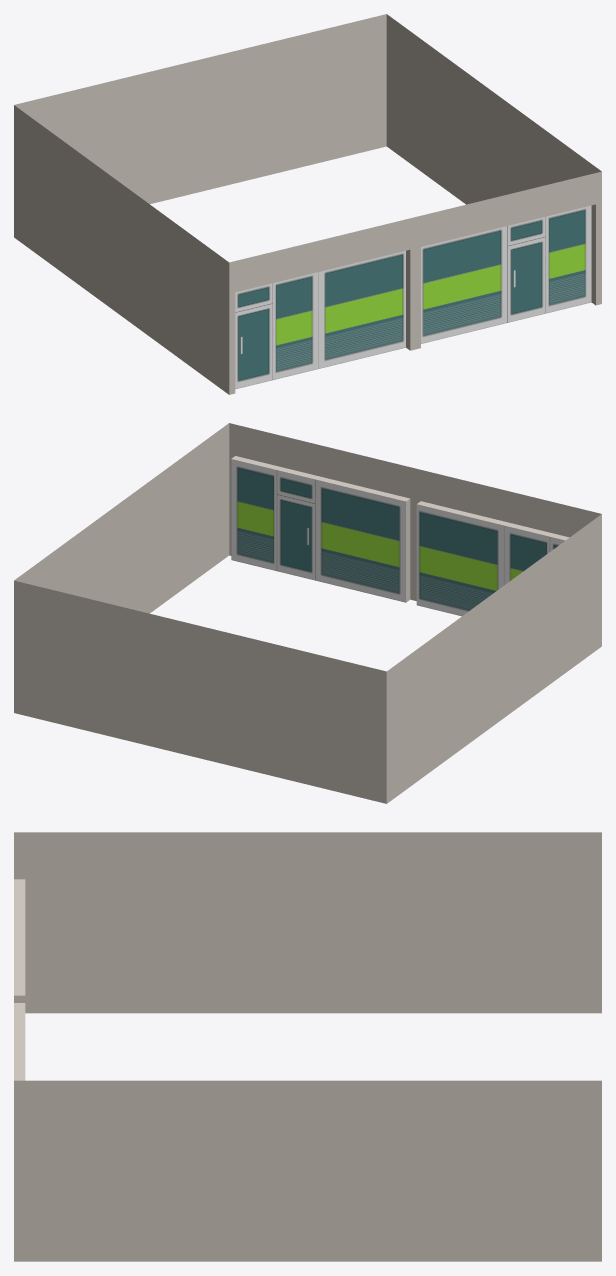
The model's file is Town_Bld-Med_BaseA.FBX.
3 views of the same model, one above another, from view 1: azimuth 30°, elevation 25°; view 2: azimuth 150°, elevation 25°; view 3: azimuth 270°, elevation 25° (orthographic). The views are drawn at different scales.
Visible parts, largest first — view 1: Town_Bld-Med_BaseA; view 2: Town_Bld-Med_BaseA; view 3: Town_Bld-Med_BaseA.
Part boxes in pixels (bbox=[...]): Town_Bld-Med_BaseA: bbox=[14, 14, 601, 394]; Town_Bld-Med_BaseA: bbox=[14, 423, 601, 803]; Town_Bld-Med_BaseA: bbox=[14, 832, 601, 1261].
Size of the model in its own units: 600 by 204 by 600.
